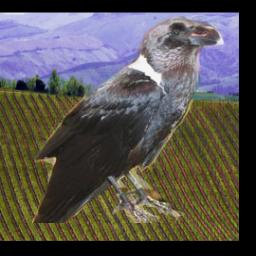Crow: (32, 16, 226, 223)
